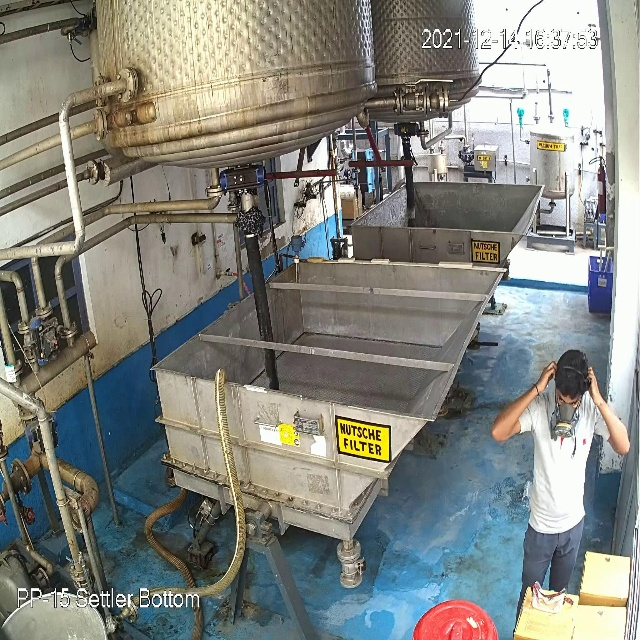Mascara: (549, 400, 580, 446)
Sin_gafas: (552, 385, 581, 411)
Sin_guantes: (482, 352, 555, 440), (585, 366, 630, 459)
